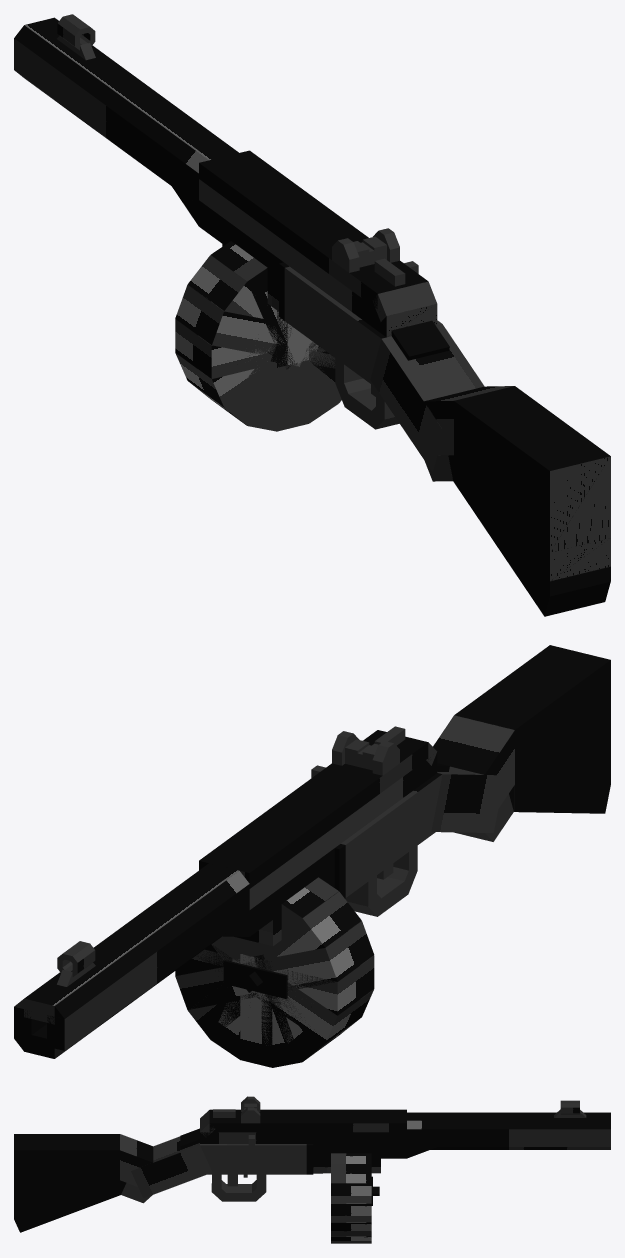
The model's file is mteg_ppsh_41.glb.
3 views of the same model, one above another, from view 1: azimuth 30°, elevation 25°; view 2: azimuth 150°, elevation 25°; view 3: azimuth 270°, elevation 25° (orthographic). The views are drawn at different scales.
Parts seen in each view (by area): view 1: Gun; view 2: Gun; view 3: Gun.
Boxes of the visible parts, box(x1,y1,x2,y2) form: Gun: box(14, 14, 610, 616); Gun: box(14, 645, 610, 1067); Gun: box(14, 1096, 610, 1243).
Size of the model in its own units: 0.2 by 0.2906 by 1.15.
1 material, 1 textured.
